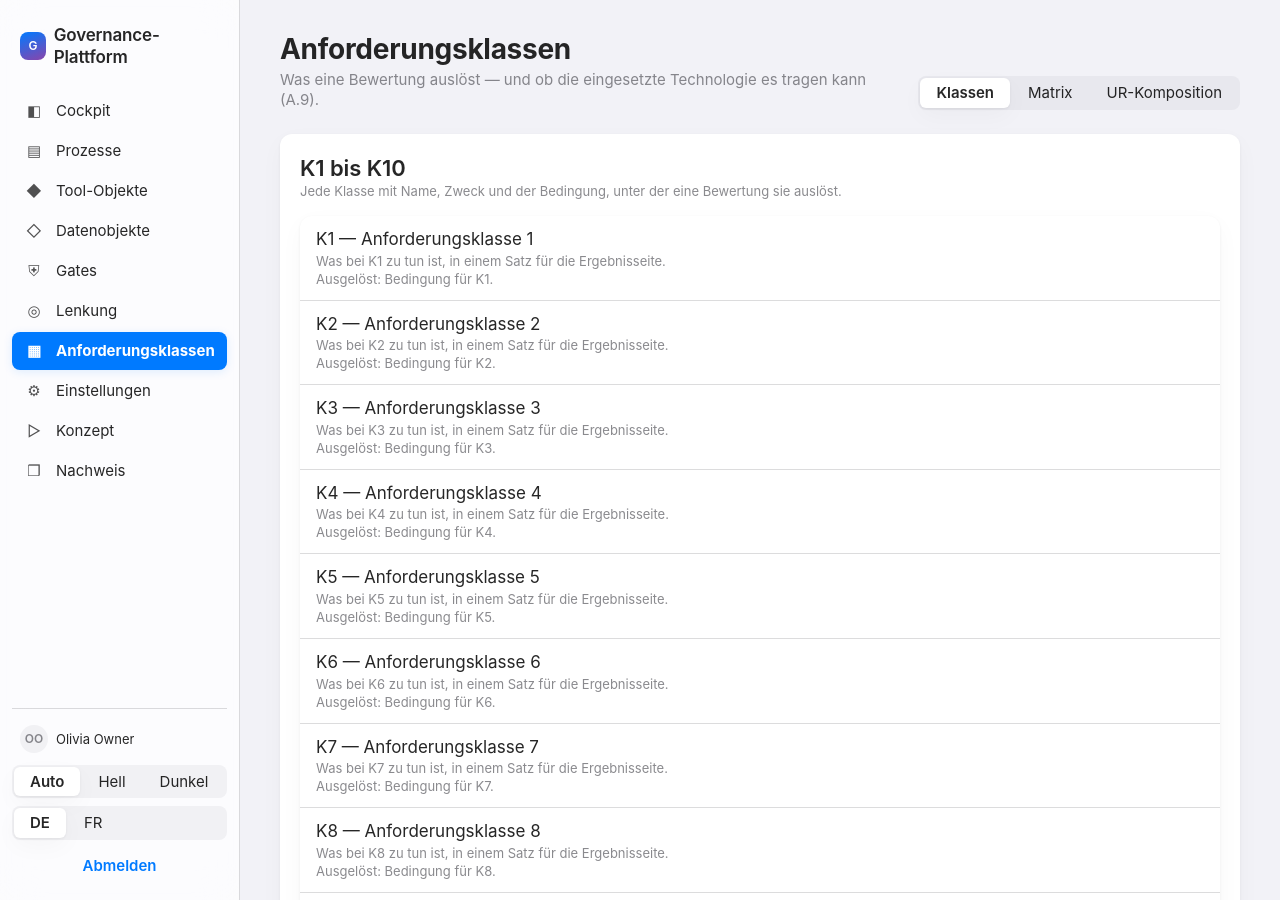
Test: Technologiematrix (Teil C.1) › meldet eine abgelehnte Änderung
The width and height of the screenshot is (1280, 900).
expect the element with test id "klasse-K1" is shown: met, box [316,229,666,287]
Click the button "Matrix": (1050, 93) [1012,78,1088,108]
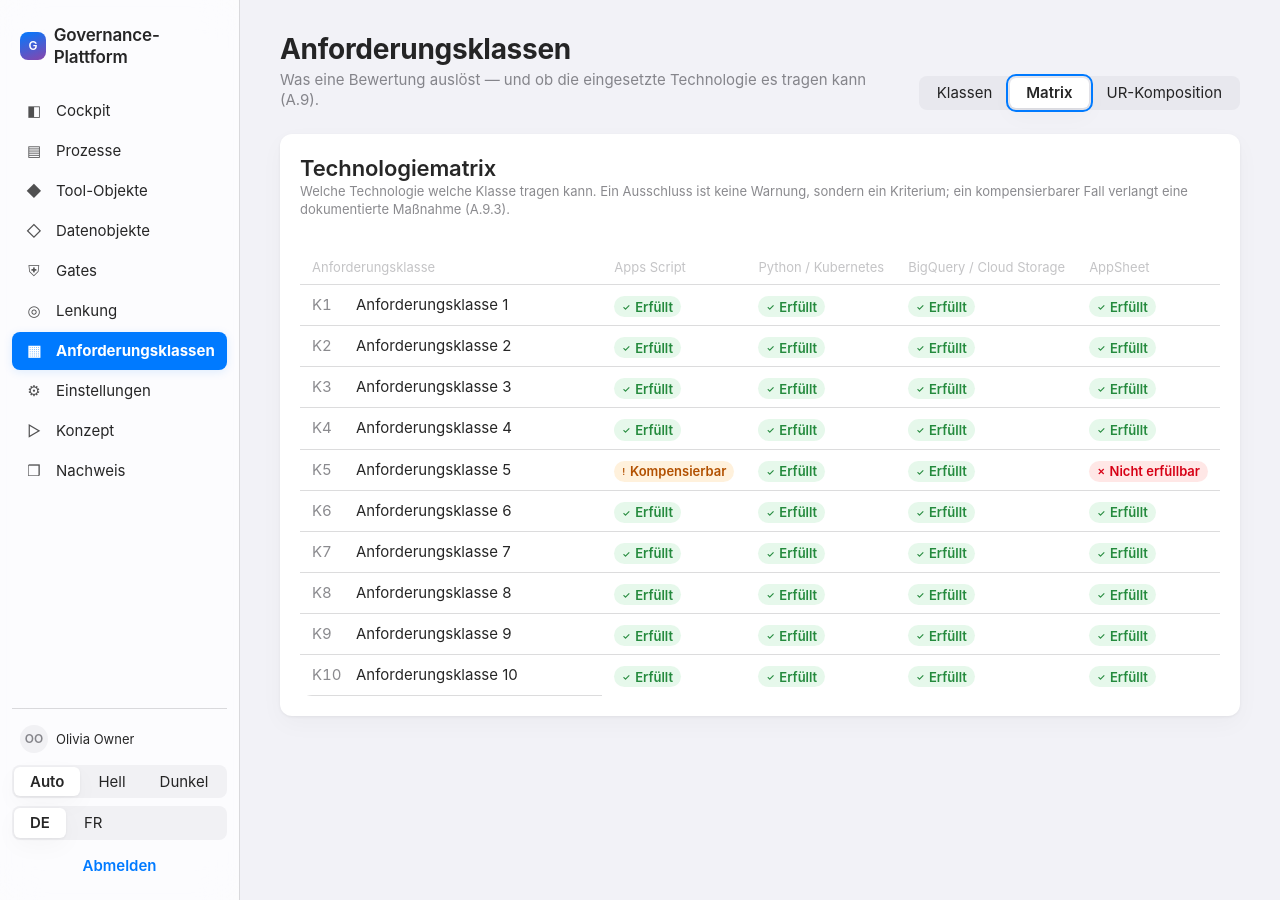
Click the button "! Kompensierbar": (674, 470) [614,458,734,482]
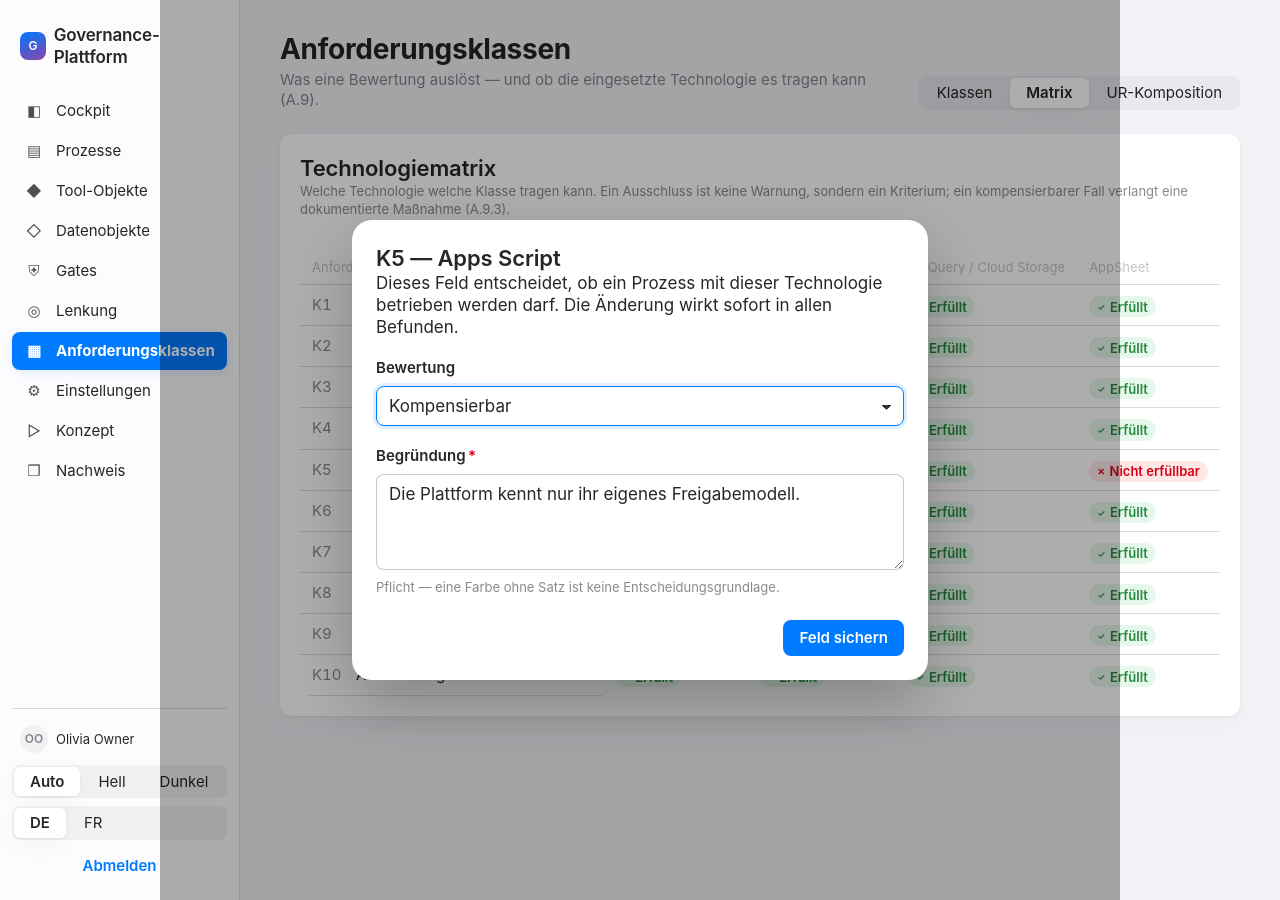
Click the button with test id "matrix-sichern": (844, 638) [784,620,904,656]
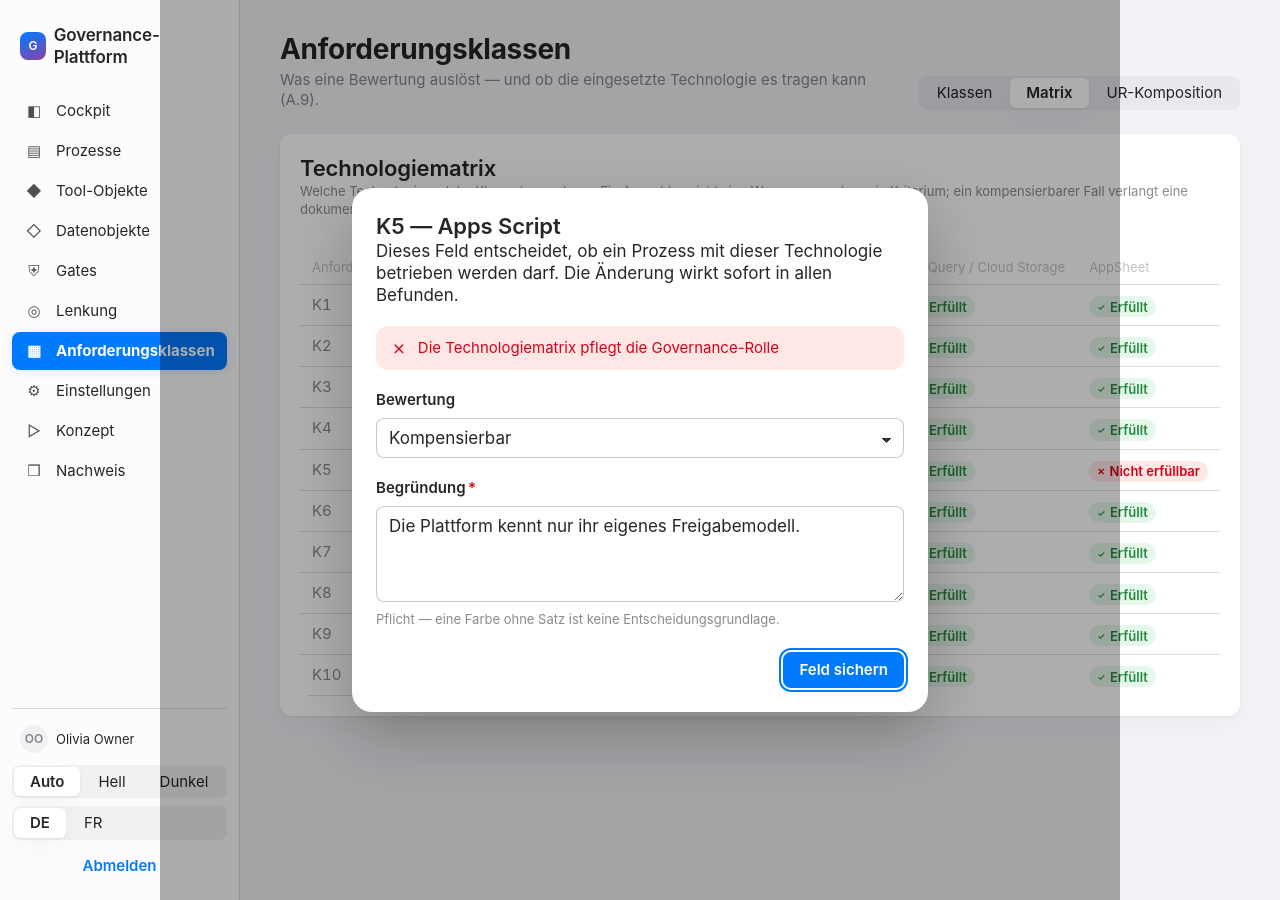
expect the message shows "Governance-Rolle": met, box [418,338,779,357]
